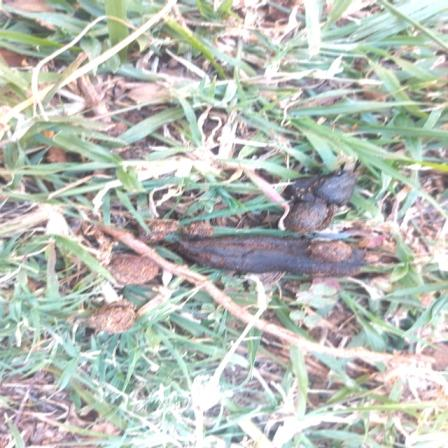dog-poop: (165, 172, 371, 279)
